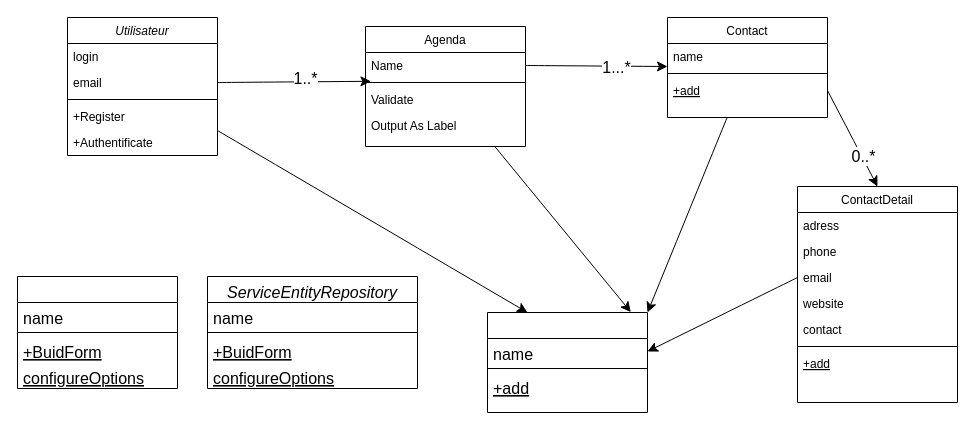
Some shapes in this 975 by 430 pixel diagram are drawn without their labels. The shapes that lost their labels are listed below. From the top down, each one's box as (x1, y1, x2, y2) in pixels, then its label:
(16, 276, 178, 388): AbstractType
(486, 312, 648, 412): AbstractController
